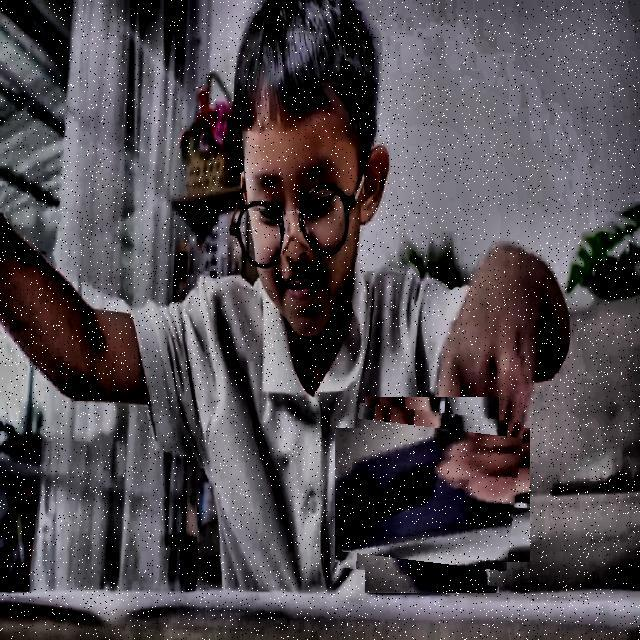Phone: (344, 408, 520, 582)
